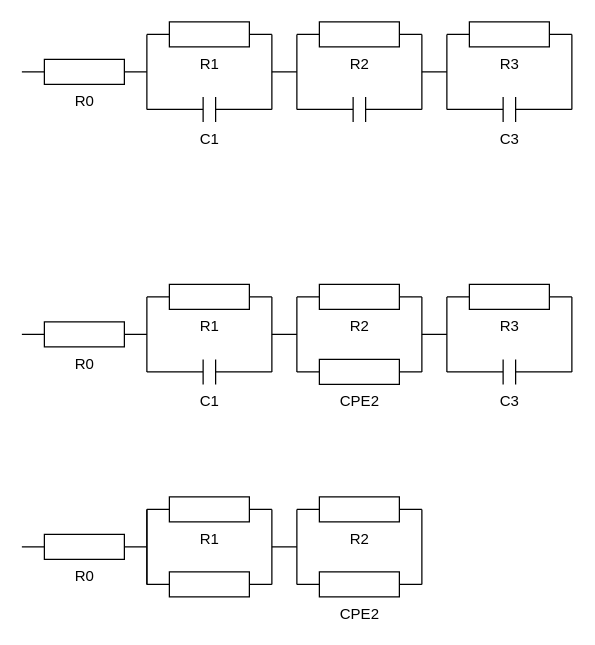
Some shapes in this 595 by 645 pixel diagram are drawn without their labels. Here are the shapes that lost their labels. From the top down, the box of each, then its label:
(296, 96, 422, 122): C2
(146, 571, 272, 597): CPE1
